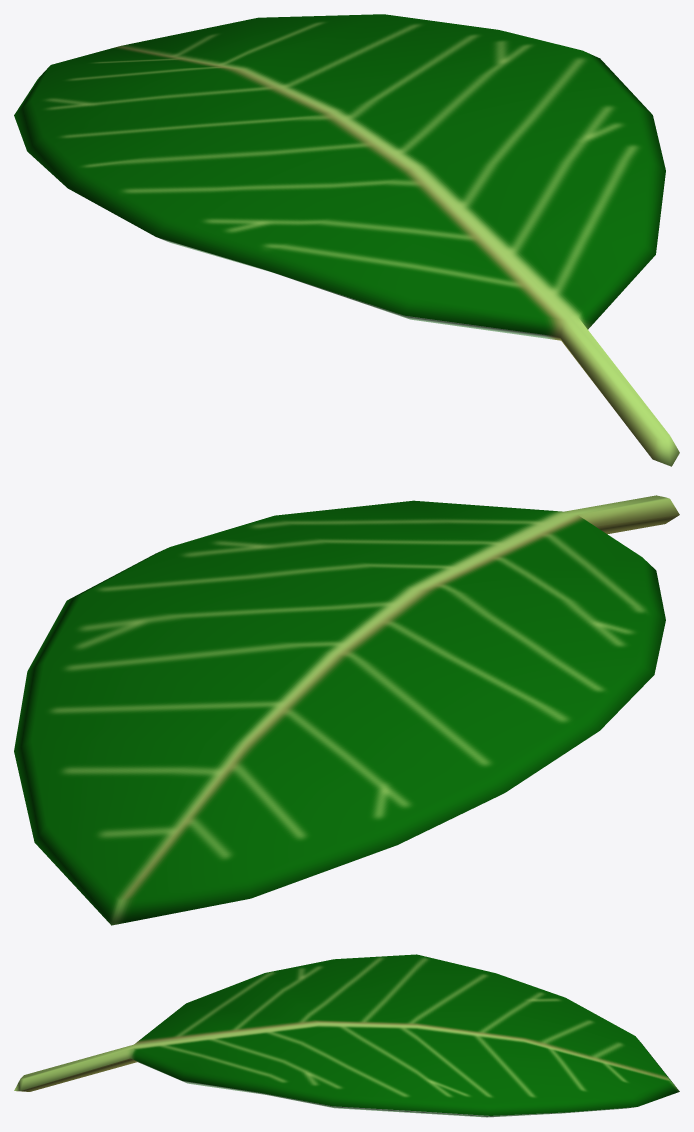
The model's file is Leaf.fbx.
The picture shows the model from 3 angles, top to bottom: view 1: azimuth 30°, elevation 25°; view 2: azimuth 150°, elevation 25°; view 3: azimuth 270°, elevation 25°; orthographic projection. The views are drawn at different scales.
Visible parts, largest first — view 1: Leaf; view 2: Leaf; view 3: Leaf.
Boxes of the visible parts, x1=… form: Leaf: x1=14, y1=14, x2=679, y2=466; Leaf: x1=14, y1=495, x2=679, y2=925; Leaf: x1=14, y1=954, x2=679, y2=1117.
Size of the model in its own units: 9.5 by 1.99 by 17.28.
Materials: 1 (1 with a texture image).
